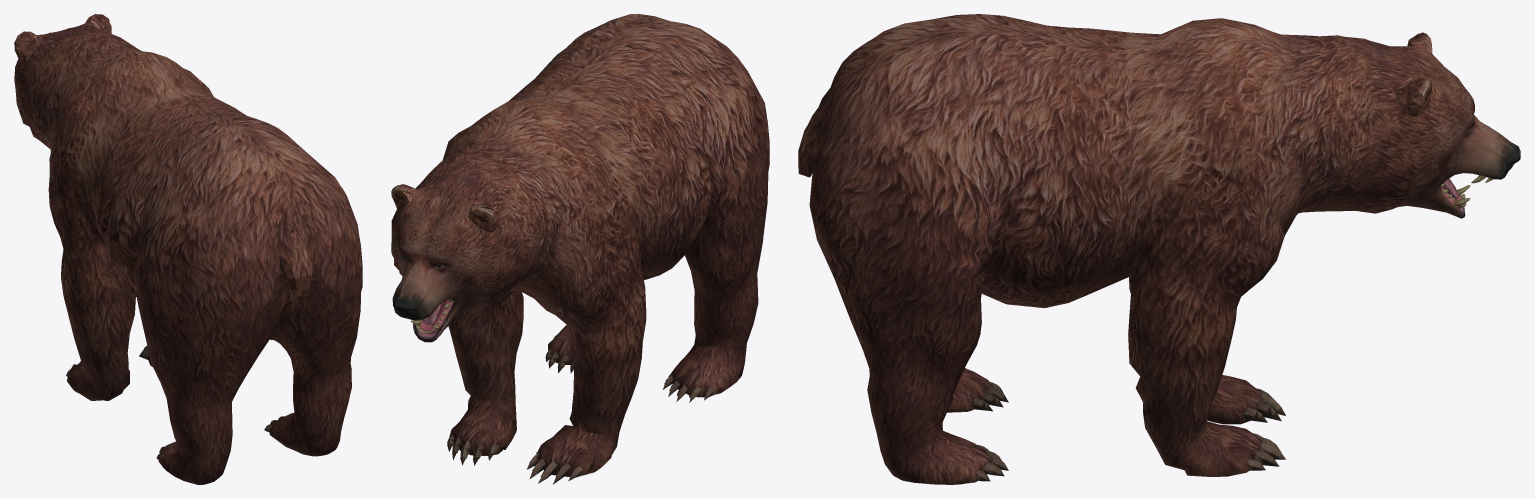
The model's file is grizzly_bear_realistic_bear_3d_model.glb.
3 renders of one model, left to right at view 1: azimuth 30°, elevation 25°; view 2: azimuth 150°, elevation 25°; view 3: azimuth 270°, elevation 25°, orthographic. The views are drawn at different scales.
Parts seen in each view (by area): view 1: PFT7TOLW1O68QOYQM5AT957UC, PFT7TOLW1O68QOYQM5AT957UC.002, PFT7TOLW1O68QOYQM5AT957UC.006, PFT7TOLW1O68QOYQM5AT957UC.003, PFT7TOLW1O68QOYQM5AT957UC.007, PFT7TOLW1O68QOYQM5AT957UC.001, PFT7TOLW1O68QOYQM5AT957UC.004; view 2: PFT7TOLW1O68QOYQM5AT957UC, PFT7TOLW1O68QOYQM5AT957UC.002, PFT7TOLW1O68QOYQM5AT957UC.003, PFT7TOLW1O68QOYQM5AT957UC.008, PFT7TOLW1O68QOYQM5AT957UC.006, PFT7TOLW1O68QOYQM5AT957UC.004, PFT7TOLW1O68QOYQM5AT957UC.007, PFT7TOLW1O68QOYQM5AT957UC.009; view 3: PFT7TOLW1O68QOYQM5AT957UC.006, PFT7TOLW1O68QOYQM5AT957UC, PFT7TOLW1O68QOYQM5AT957UC.007, PFT7TOLW1O68QOYQM5AT957UC.008, PFT7TOLW1O68QOYQM5AT957UC.003, PFT7TOLW1O68QOYQM5AT957UC.009, PFT7TOLW1O68QOYQM5AT957UC.002, PFT7TOLW1O68QOYQM5AT957UC.001.
Boxes of the visible parts, x1,y1,x2,y2 form: PFT7TOLW1O68QOYQM5AT957UC: (14,26,314,354); PFT7TOLW1O68QOYQM5AT957UC.002: (143,329,259,484); PFT7TOLW1O68QOYQM5AT957UC.006: (74,22,362,346); PFT7TOLW1O68QOYQM5AT957UC.003: (61,252,135,400); PFT7TOLW1O68QOYQM5AT957UC.007: (269,311,360,456); PFT7TOLW1O68QOYQM5AT957UC.001: (279,243,314,290); PFT7TOLW1O68QOYQM5AT957UC.004: (14,31,47,62); PFT7TOLW1O68QOYQM5AT957UC: (395,14,769,342); PFT7TOLW1O68QOYQM5AT957UC.002: (668,203,767,397); PFT7TOLW1O68QOYQM5AT957UC.003: (536,279,646,477); PFT7TOLW1O68QOYQM5AT957UC.008: (448,291,523,455); PFT7TOLW1O68QOYQM5AT957UC.006: (391,14,629,338); PFT7TOLW1O68QOYQM5AT957UC.004: (467,197,497,232); PFT7TOLW1O68QOYQM5AT957UC.007: (548,325,573,364); PFT7TOLW1O68QOYQM5AT957UC.009: (391,184,426,209); PFT7TOLW1O68QOYQM5AT957UC.006: (809,51,1519,312); PFT7TOLW1O68QOYQM5AT957UC: (812,14,1520,216); PFT7TOLW1O68QOYQM5AT957UC.007: (834,278,992,484); PFT7TOLW1O68QOYQM5AT957UC.008: (1128,268,1262,476); PFT7TOLW1O68QOYQM5AT957UC.003: (1129,276,1262,424); PFT7TOLW1O68QOYQM5AT957UC.009: (1392,77,1432,116); PFT7TOLW1O68QOYQM5AT957UC.002: (947,368,992,412); PFT7TOLW1O68QOYQM5AT957UC.001: (798,116,817,177).
Bounding box in the file's own units: 1.13 × 1.68 × 2.62.
Materials: 1 (1 with a texture image).
